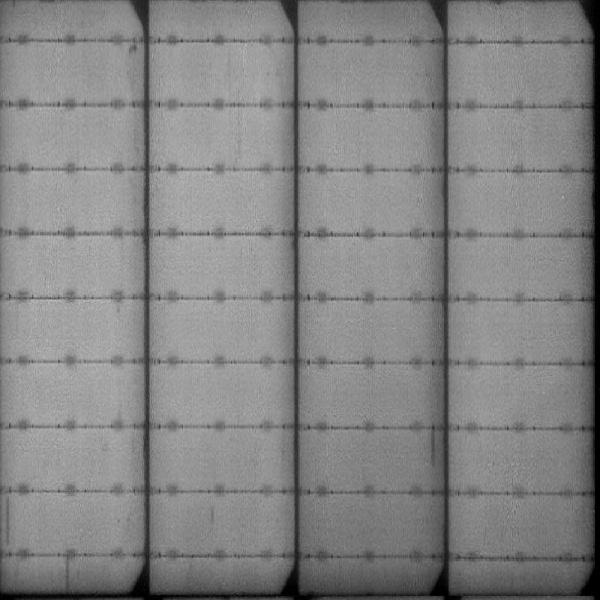scratch: (427, 420, 440, 472), (61, 554, 77, 596), (4, 493, 12, 544)
